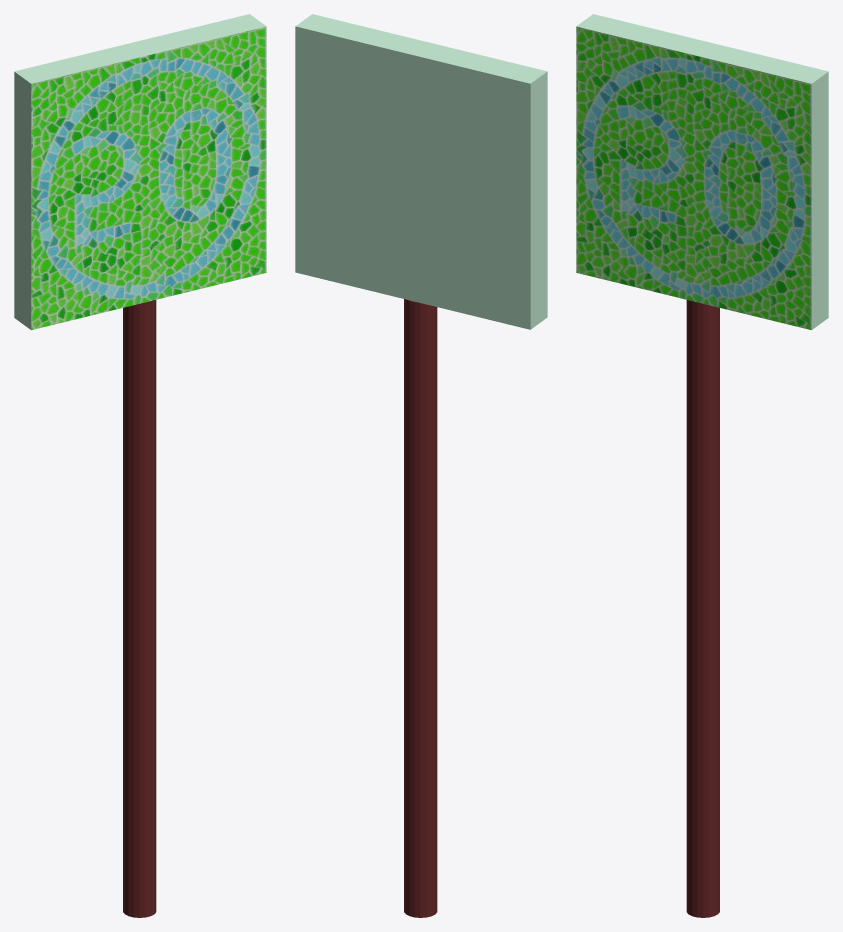
The model's file is ogr.dae.
The picture shows the model from 3 angles, left to right: view 1: azimuth 30°, elevation 25°; view 2: azimuth 150°, elevation 25°; view 3: azimuth 330°, elevation 25°; orthographic projection.
Visible parts, largest first — view 1: BSD_Material_t_ogr_14, CSD_Material_t_ogr_37, BSD_Material_t_ogr_15; view 2: BSD_Material_t_ogr_15, CSD_Material_t_ogr_37; view 3: BSD_Material_t_ogr_14, CSD_Material_t_ogr_37, BSD_Material_t_ogr_15.
Part boxes in pixels (x1=…): BSD_Material_t_ogr_14: x1=31, y1=26, x2=266, y2=329; CSD_Material_t_ogr_37: x1=123, y1=300, x2=156, y2=917; BSD_Material_t_ogr_15: x1=14, y1=14, x2=266, y2=329; BSD_Material_t_ogr_15: x1=295, y1=14, x2=547, y2=329; CSD_Material_t_ogr_37: x1=404, y1=299, x2=437, y2=917; BSD_Material_t_ogr_14: x1=576, y1=26, x2=811, y2=329; CSD_Material_t_ogr_37: x1=686, y1=300, x2=719, y2=917; BSD_Material_t_ogr_15: x1=576, y1=14, x2=828, y2=329.
Bounding box in the file's own units: 1.57 × 0.2043 × 5.51.
